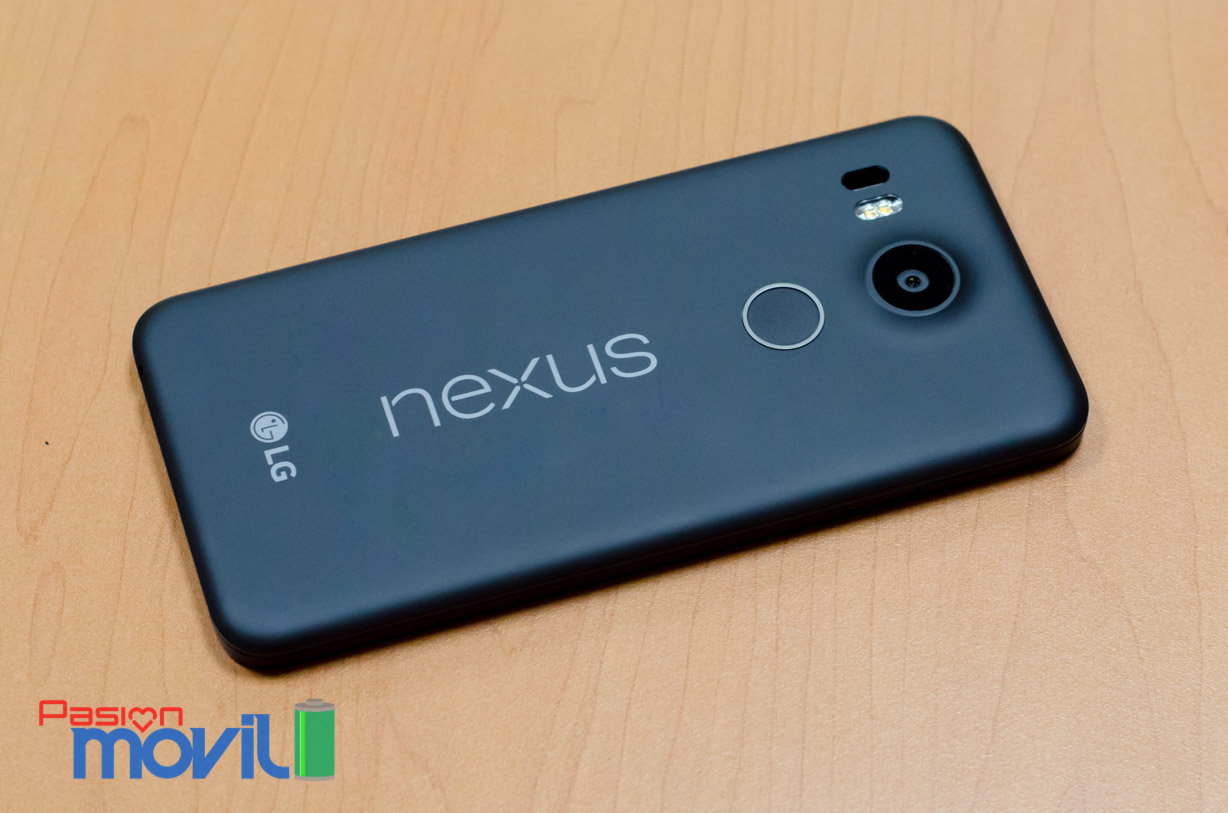smartphone: (131, 115, 1089, 673)
